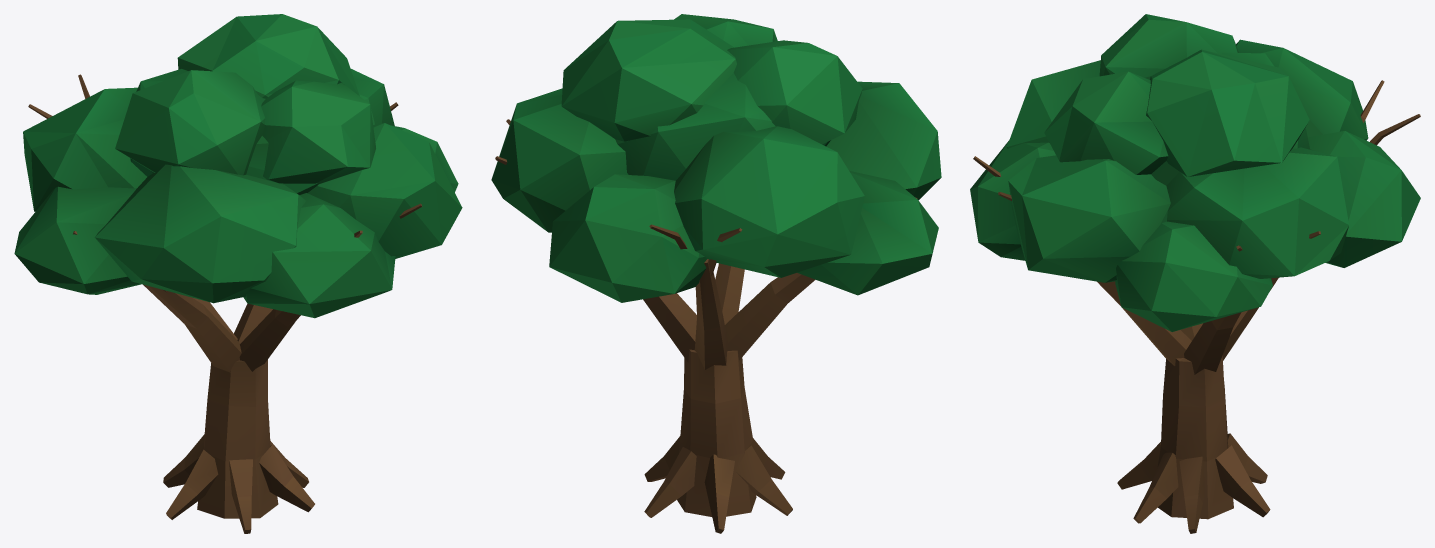
File: tree_big_oak_low.glb
3 views of the same model, side by side, from view 1: azimuth 30°, elevation 25°; view 2: azimuth 150°, elevation 25°; view 3: azimuth 270°, elevation 25° (orthographic). The views are drawn at different scales.
Size of the model in its own units: 11.77 by 12.28 by 10.87.
